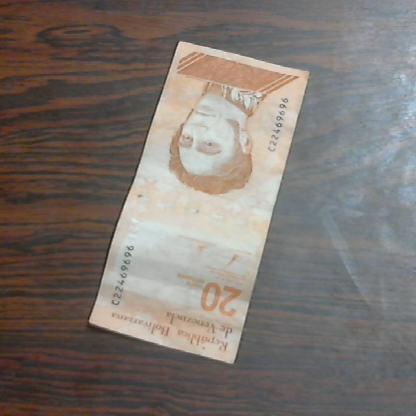vef_front: (88, 40, 310, 364)
